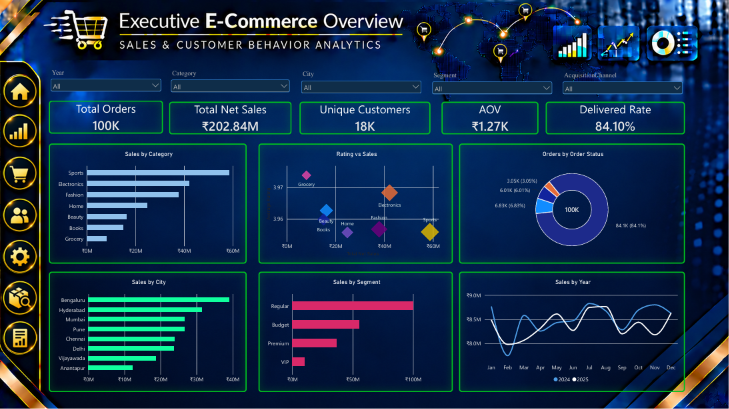

Layout of this report page (visuals, bound fields, positions):
{"tool":"powerbi","page":{"name":"Executive Final Dashboard - 7","canvas":[1920,1080],"ordinal":6},"visuals":[{"type":"slicer","title":"123","fields":{"Values":["Dim_Customer.City"]},"box":[787.7,187.6,325,60],"z":0},{"type":"slicer","title":"123","fields":{"Values":["Dim_Date.Year"]},"box":[128.9,182.9,300.1,61],"z":1000},{"type":"slicer","title":"123","fields":{"Values":["Dim_Product.Category"]},"box":[445.5,185.2,321.2,61],"z":2000},{"type":"slicer","title":"123","fields":{"Values":["Dim_Customer.Segment"]},"box":[1132.4,189.9,325,60],"z":3000},{"type":"slicer","title":"123","fields":{"Values":["Dim_Customer.AcquisitionChannel"]},"box":[1474.7,189.9,325,60],"z":4000},{"type":"cardVisual","fields":{"Data":["Measures Table.Total Net Sales"]},"box":[445.5,269.6,321.2,86.7],"z":5000},{"type":"cardVisual","fields":{"Data":["Measures Table.Total Orders"]},"box":[128.9,267.3,300.1,86.7],"z":6000},{"type":"cardVisual","fields":{"Data":["Measures Table.Unique Customers"]},"box":[787.7,269.6,344.6,86.7],"z":7000},{"type":"cardVisual","fields":{"Data":["Measures Table.AOV"]},"box":[1160.5,269.6,255.5,86.7],"z":8000},{"type":"barChart","title":"Sales by Category ","fields":{"Category":["Dim_Product.Category"],"Y":["Measures Table.Total Net Sales"]},"box":[128.9,379.8,520.5,316.5],"z":9000},{"type":"barChart","title":"Sales by City","fields":{"Category":["Dim_Customer.City"],"Y":["Measures Table.Total Net Sales"]},"box":[128.9,717.4,520.5,316.5],"z":10000},{"type":"barChart","title":"Sales by Segment","fields":{"Category":["Dim_Customer.Segment"],"Y":["Measures Table.Total Net Sales"]},"box":[679.9,717.4,511.1,316.5],"z":11000},{"type":"scatterChart","title":"Rating vs Sales","fields":{"Series":["Dim_Product.Category"],"Size":["Measures Table.Total Orders"],"X":["Measures Table.Total Net Sales"],"Y":["Measures Table.Average Rating"]},"box":[679.9,379.8,511.1,316.5],"z":12000},{"type":"donutChart","title":"Orders by Order Status","fields":{"Category":["Fact_EcommerceSales.OrderStatus"],"Y":["CountNonNull(Fact_EcommerceSales.OrderID)"]},"box":[1207.4,379.8,593.2,316.5],"z":13000},{"type":"cardVisual","fields":{"Data":["Measures Table.Delivered Rate"]},"box":[1434.8,269.6,365.7,86.7],"z":14000},{"type":"lineChart","title":"Sales by Year","fields":{"Category":["Dim_Date.MonthName"],"Series":["Dim_Date.Year"],"Y":["Measures Table.Total Net Sales"]},"box":[1207.4,717.4,593.2,316.5],"z":15000},{"type":"image","box":[6,192.7,90.7,99.3],"z":16000},{"type":"image","box":[6,840.7,90.7,99.3],"z":17000},{"type":"image","box":[6,296.7,90.7,99.3],"z":18000},{"type":"image","box":[4.4,735.6,97.5,99.4],"z":19000},{"type":"image","box":[6,408,90.7,99.3],"z":20000},{"type":"image","box":[6,518,90.7,99.3],"z":21000},{"type":"image","box":[6,624,90.7,104.7],"z":22000}]}

Visuals, with their boxes in screenshot pixels (x1, y1, x2, y2), scaled from the page's 1920x1080 canvas onto the 729x409 screenshot:
"123" slicer: select_region(299, 71, 422, 94)
"123" slicer: select_region(49, 69, 163, 92)
"123" slicer: select_region(169, 70, 291, 93)
"123" slicer: select_region(430, 72, 553, 95)
"123" slicer: select_region(560, 72, 683, 95)
cardVisual - Measures Table.Total Net Sales: select_region(169, 102, 291, 135)
cardVisual - Measures Table.Total Orders: select_region(49, 101, 163, 134)
cardVisual - Measures Table.Unique Customers: select_region(299, 102, 430, 135)
cardVisual - Measures Table.AOV: select_region(441, 102, 538, 135)
"Sales by Category " barChart: select_region(49, 144, 247, 264)
"Sales by City" barChart: select_region(49, 272, 247, 392)
"Sales by Segment" barChart: select_region(258, 272, 452, 392)
"Rating vs Sales" scatterChart: select_region(258, 144, 452, 264)
"Orders by Order Status" donutChart: select_region(458, 144, 684, 264)
cardVisual - Measures Table.Delivered Rate: select_region(545, 102, 684, 135)
"Sales by Year" lineChart: select_region(458, 272, 684, 392)
image: select_region(2, 73, 37, 111)
image: select_region(2, 318, 37, 356)
image: select_region(2, 112, 37, 150)
image: select_region(2, 279, 39, 316)
image: select_region(2, 155, 37, 192)
image: select_region(2, 196, 37, 234)
image: select_region(2, 236, 37, 276)
